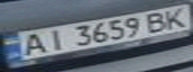3: (69, 22, 93, 47)
5: (106, 17, 127, 42)
6: (90, 20, 112, 44)
9: (121, 15, 148, 38)
A: (12, 30, 51, 57)
B: (139, 9, 175, 34)
I: (39, 27, 72, 52)
K: (157, 6, 193, 30)
